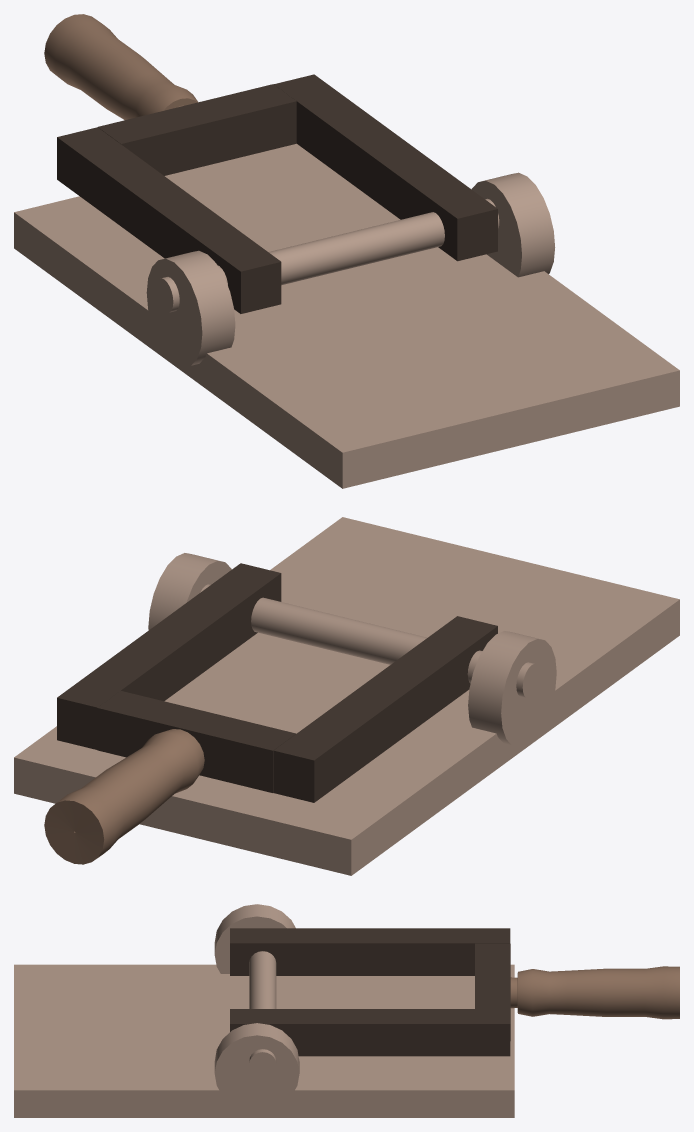
File: Power Switch.fbx
The picture shows the model from 3 angles, top to bottom: view 1: azimuth 30°, elevation 25°; view 2: azimuth 150°, elevation 25°; view 3: azimuth 270°, elevation 25°; orthographic projection. The views are drawn at different scales.
Parts seen in each view (by area): view 1: base, switch2, pCylinder4, handle; view 2: base, switch2, pCylinder4, handle; view 3: base, switch2, pCylinder4, handle.
Part boxes in pixels (x1,y1,x2,y2): base: (14, 143, 679, 488); switch2: (57, 74, 497, 313); pCylinder4: (146, 172, 555, 367); handle: (44, 14, 197, 119); base: (14, 517, 679, 875); switch2: (57, 563, 497, 802); pCylinder4: (148, 553, 556, 747); handle: (44, 729, 204, 864); base: (14, 964, 514, 1117); switch2: (230, 928, 510, 1056); pCylinder4: (214, 904, 299, 1112); handle: (510, 966, 679, 1019).
Bounding box in the file's own units: 34.77 × 10.26 × 71.67.
